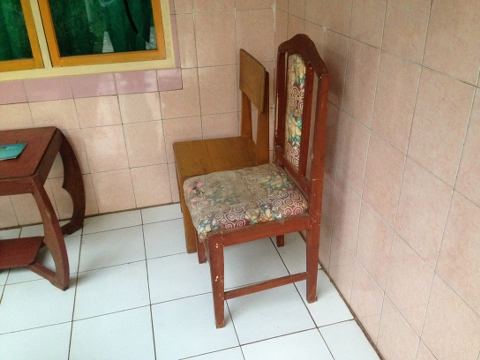kursi: (183, 36, 328, 328), (172, 49, 269, 253)
